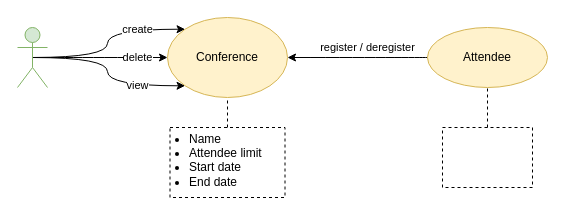
The diagram is 565 pixels wide and 215 high, and some of its shapes have lost their labels. Each missing label, with the centre of its shape:
"E-Mail First name Last name" belongs at point (487, 157).
"User" belongs at point (32, 57).
